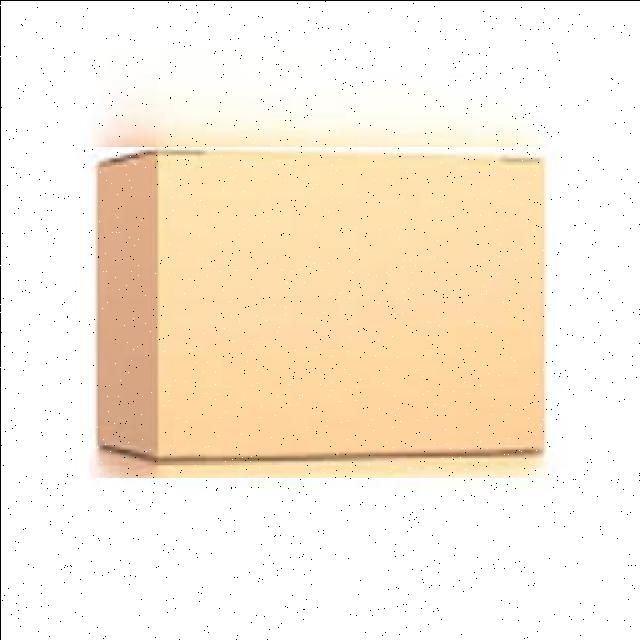normal: (88, 146, 549, 477)
